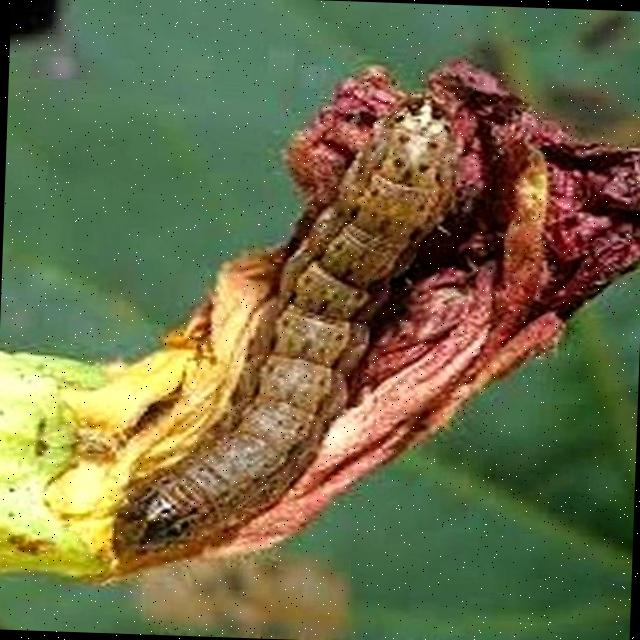worm: (108, 79, 468, 576)
